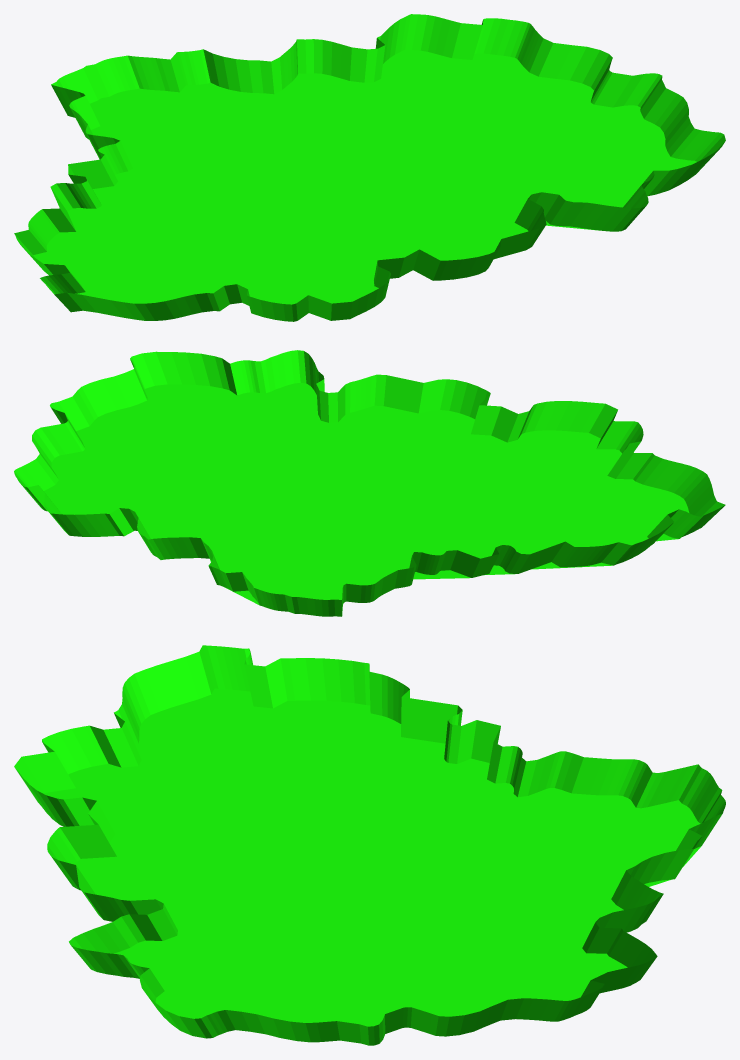
Rendered from GroundCol.FBX.
The picture shows the model from 3 angles, top to bottom: view 1: azimuth 30°, elevation 25°; view 2: azimuth 150°, elevation 25°; view 3: azimuth 270°, elevation 25°; orthographic projection. The views are drawn at different scales.
Visible parts, largest first — view 1: GroundCol; view 2: GroundCol; view 3: GroundCol.
Part boxes in pixels (<box>): GroundCol: <box>14,14,725,321</box>; GroundCol: <box>14,350,725,616</box>; GroundCol: <box>14,645,725,1045</box>.
Size of the model in its own units: 0.2632 by 0.01 by 0.2076.
